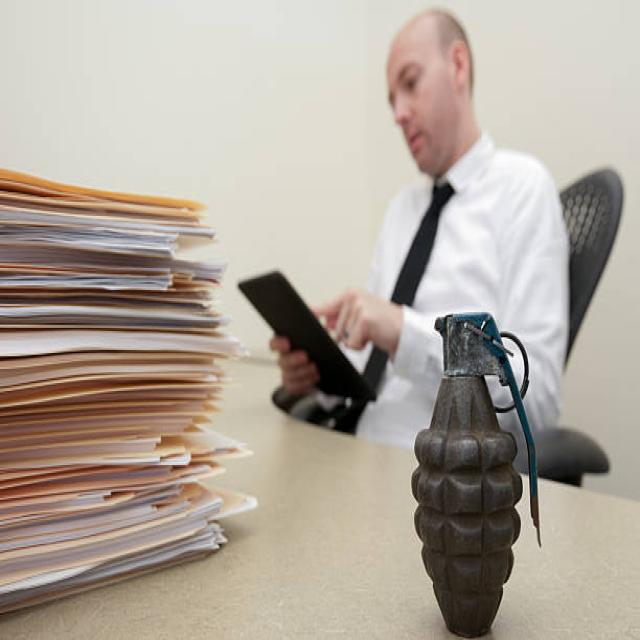grenade: (408, 307, 552, 640)
